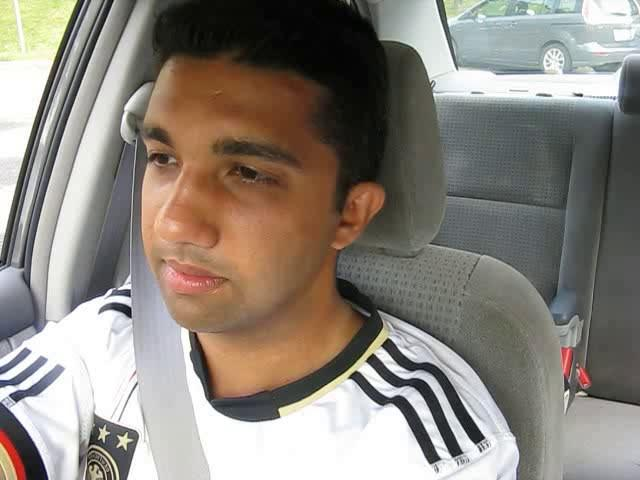close_eyeL: (134, 137, 191, 182)
close_eyeR: (209, 147, 299, 201)
no_yawn: (138, 251, 243, 301)
